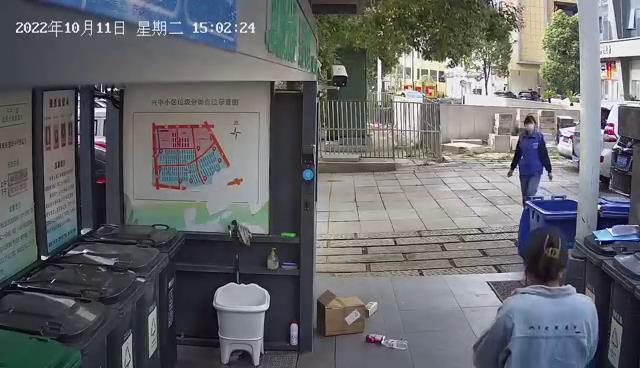lvzhipin: (364, 332, 386, 346)
suliaozhipin: (379, 338, 412, 352), (364, 298, 380, 319)
worker: (466, 222, 603, 368), (503, 111, 555, 216)
zhizhipin: (315, 284, 369, 339)
